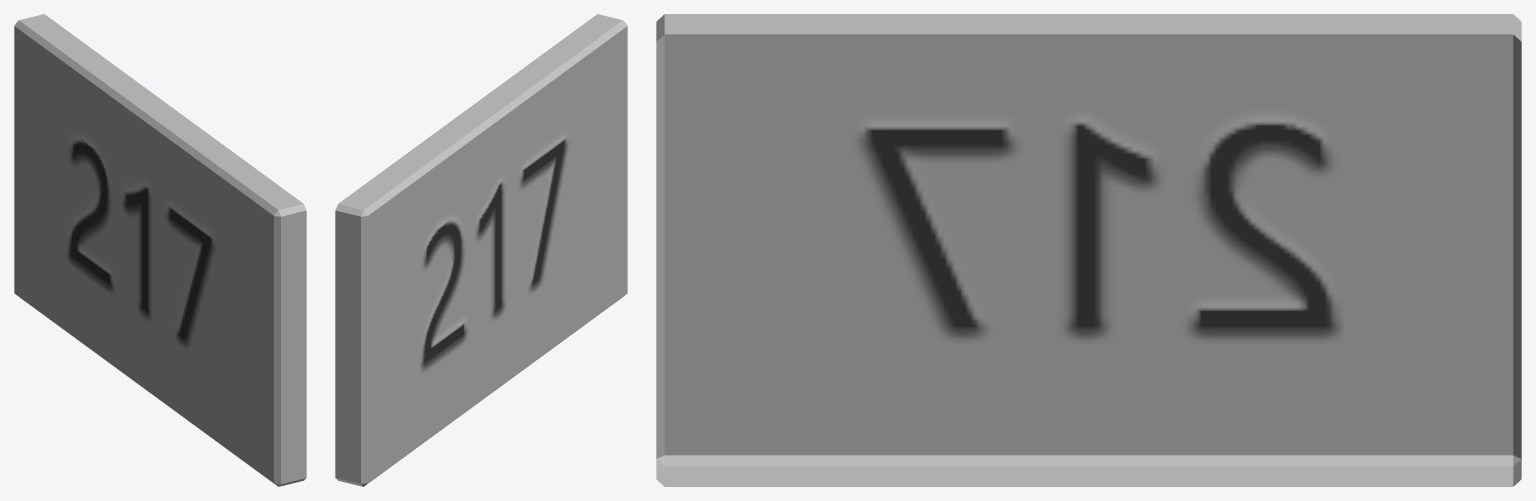
3 views of the same model, side by side, from view 1: azimuth 30°, elevation 25°; view 2: azimuth 150°, elevation 25°; view 3: azimuth 270°, elevation 25° (orthographic). The views are drawn at different scales.
Visible parts, largest first — view 1: pCube45; view 2: pCube45; view 3: pCube45.
Boxes of the visible parts, x1,y1,x2,y2 form: pCube45: (14,14,306,486); pCube45: (335,14,627,486); pCube45: (656,14,1521,486).
Bounding box in the file's own units: 0.8887 × 7.85 × 13.6.
Materials: 1 (1 with a texture image).
